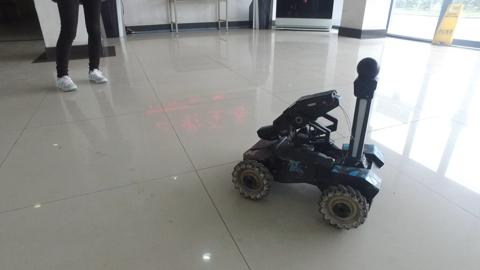chariot: (231, 56, 386, 231)
